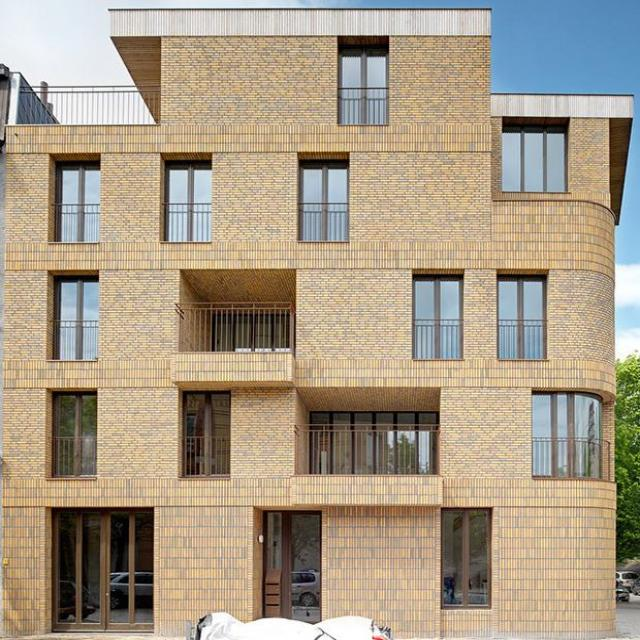Railing: (295, 422, 437, 473), (178, 302, 293, 352), (20, 85, 160, 123), (532, 436, 611, 479), (181, 433, 233, 476), (415, 318, 462, 362), (338, 85, 390, 124), (297, 204, 347, 244), (500, 317, 548, 358), (50, 318, 99, 358), (52, 201, 100, 241), (51, 436, 99, 476), (165, 202, 212, 240)
door: (56, 505, 156, 626), (262, 511, 320, 622)
plant: (610, 350, 639, 542)
wall: (4, 10, 635, 635)
windows: (442, 509, 492, 605), (504, 123, 568, 193), (534, 389, 603, 434), (185, 386, 232, 432), (53, 387, 99, 432), (297, 161, 345, 204), (500, 272, 546, 316), (59, 271, 102, 317), (415, 273, 461, 314), (342, 42, 389, 82), (312, 406, 439, 419), (167, 164, 209, 202), (59, 165, 102, 200)
